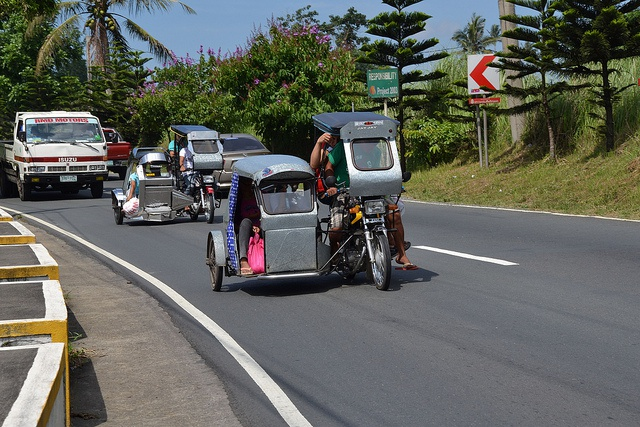non-vehicle: (328, 194, 391, 287), (188, 175, 216, 222)
